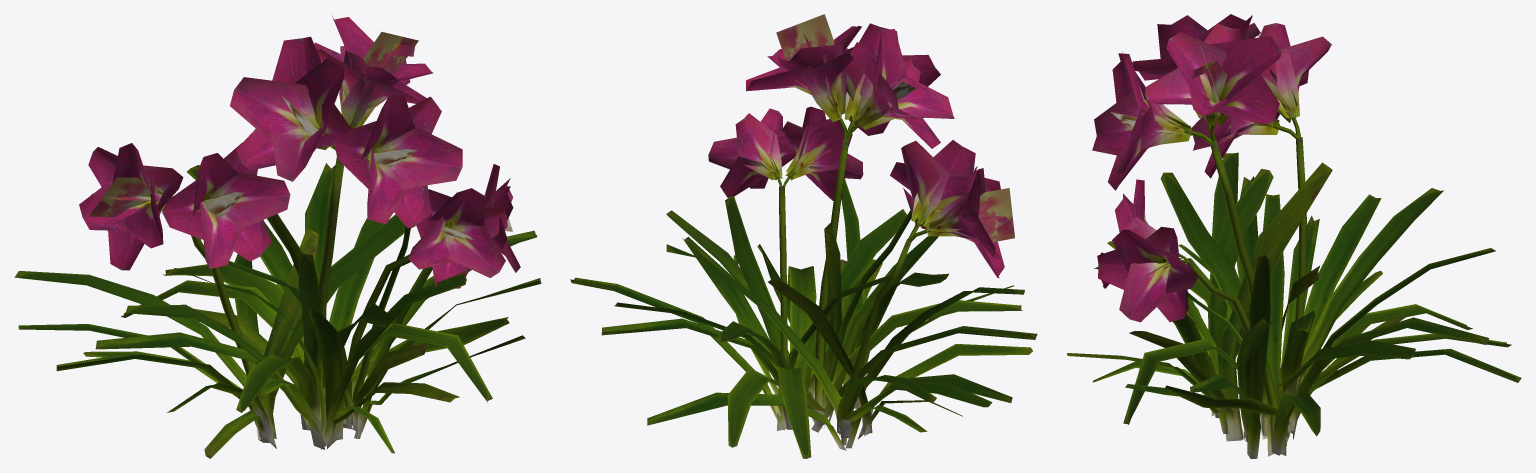
The model's file is Amaryllis_bush_short_pink.glb.
3 views of the same model, side by side, from view 1: azimuth 30°, elevation 25°; view 2: azimuth 150°, elevation 25°; view 3: azimuth 270°, elevation 25° (orthographic). The views are drawn at different scales.
Visible parts, largest first — view 1: bush; view 2: bush; view 3: bush.
Boxes of the visible parts, x1=… form: bush: x1=14, y1=16, x2=541, y2=458; bush: x1=570, y1=14, x2=1037, y2=458; bush: x1=1067, y1=14, x2=1521, y2=458.
Size of the model in its own units: 2.76 by 2.32 by 2.27.
1 material, 1 textured.
